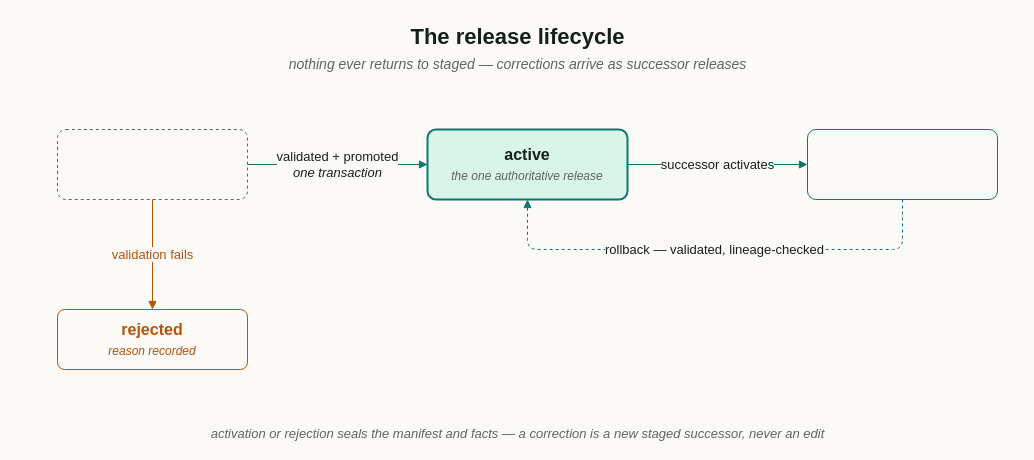
Some shapes in this 1034 by 460 pixel diagram are drawn without their labels. The box of each missing label's shape, as (x1, y1, x2, y2) in pixels:
staged facts writable: (56, 128, 248, 200)
superseded retained for rollback: (806, 128, 998, 200)
